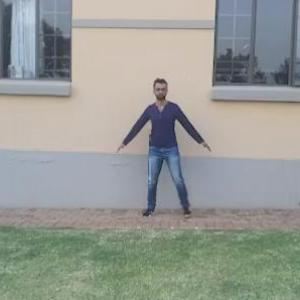land: (119, 82, 214, 228)
